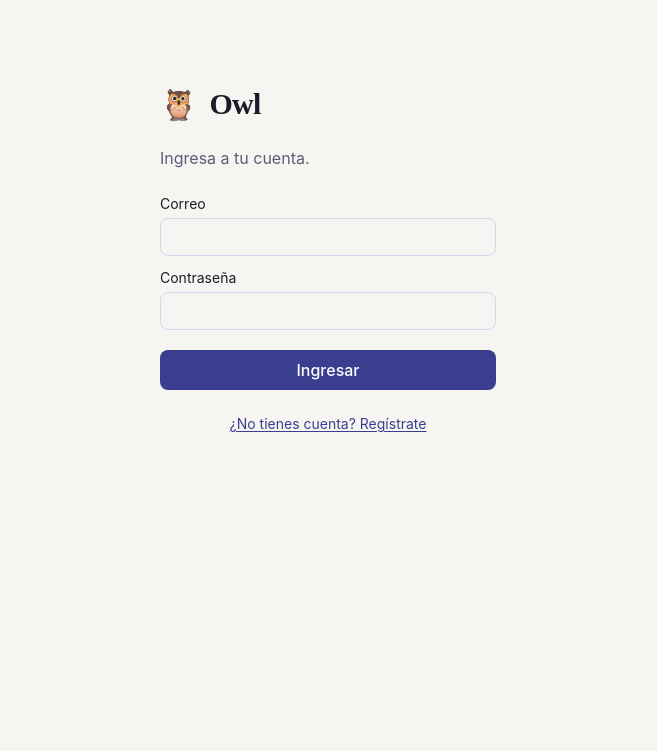
Test: logs in and starts a conversation
The width and height of the screenshot is (657, 751).
Step 1. Type "a@b.com" into the field labelled "Correo" → (328, 237), box [160,218,496,256]
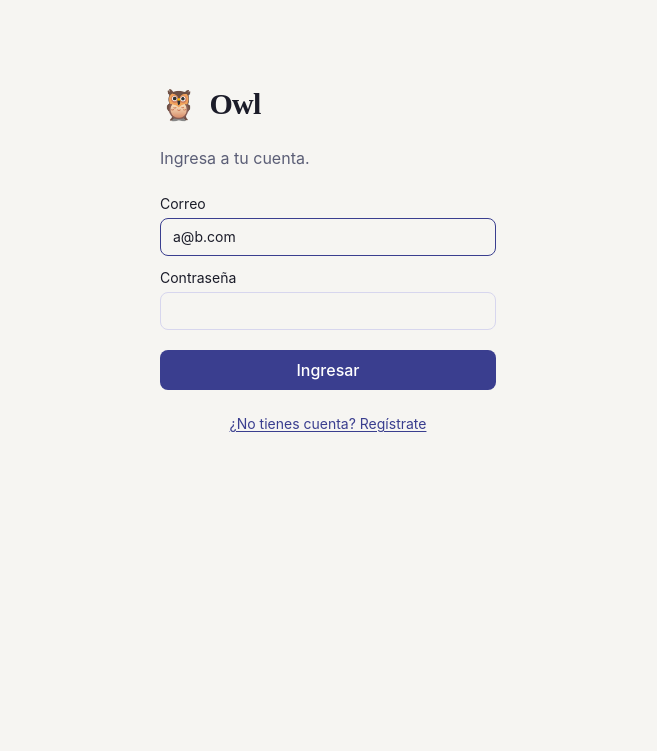
Step 2. Type "password123" into the password field labelled "Contraseña" → (328, 311), box [160,292,496,330]
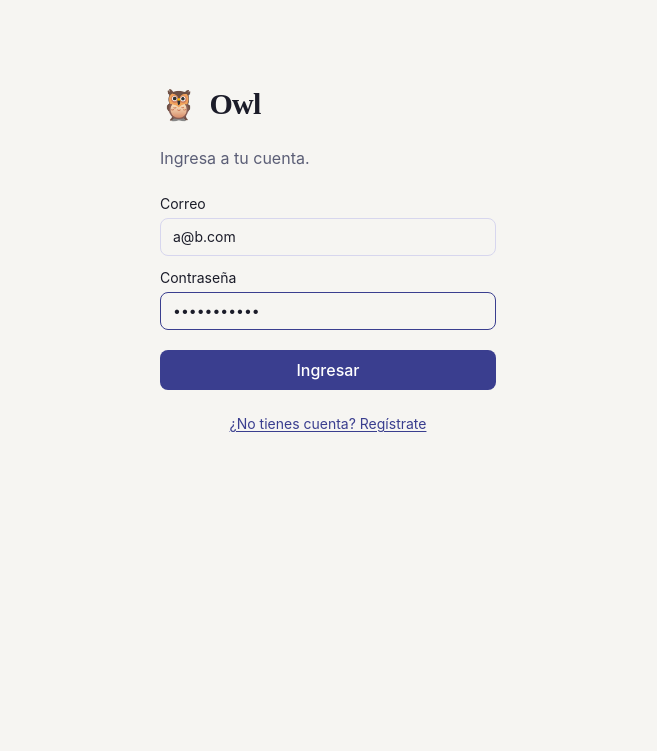
Step 3. Click the button "Ingresar" → (328, 370), box [160,350,496,390]
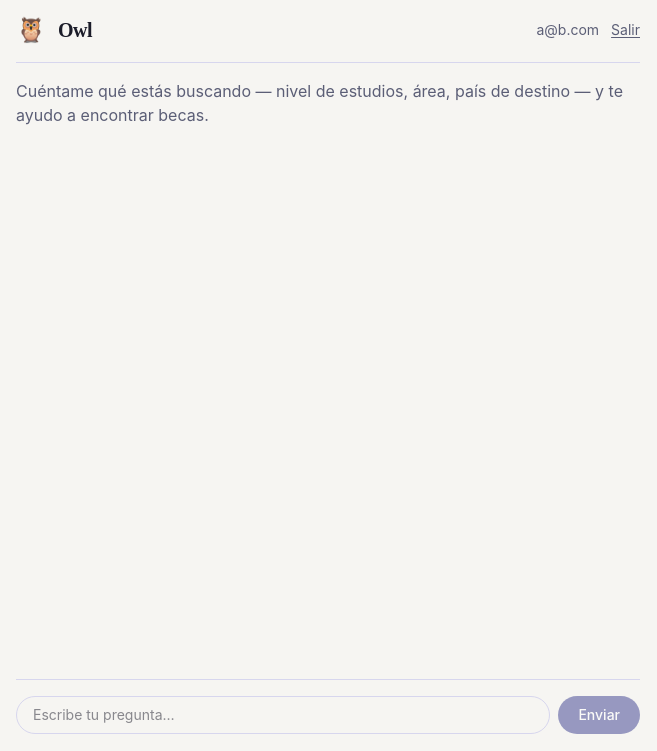
Check: the field with placeholder "Escribe tu pregunta…" is shown, box [16,696,550,734]
Check: the text "a@b.com" is shown, box [536,20,599,40]
